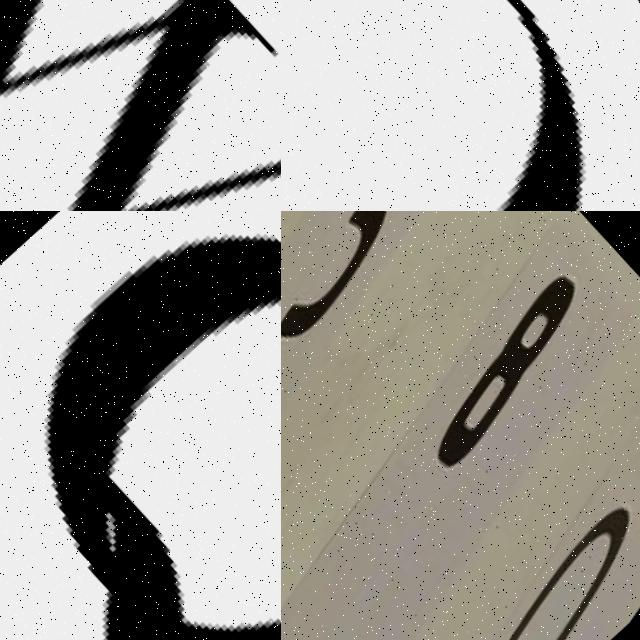0: (369, 430, 640, 640)
5: (281, 211, 489, 376)
8: (373, 223, 640, 499)
O: (281, 0, 581, 211)
Q: (0, 211, 281, 640)
W: (0, 0, 281, 211)
